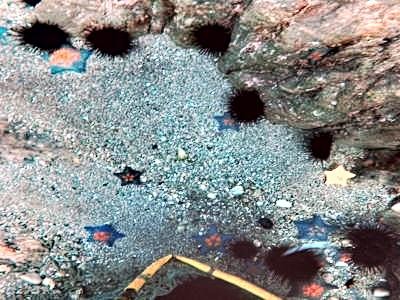urchin: (265, 244, 317, 282), (348, 221, 389, 268), (79, 21, 130, 57), (14, 16, 65, 50), (224, 84, 264, 125), (189, 20, 232, 53), (304, 128, 334, 159), (227, 236, 255, 261)
